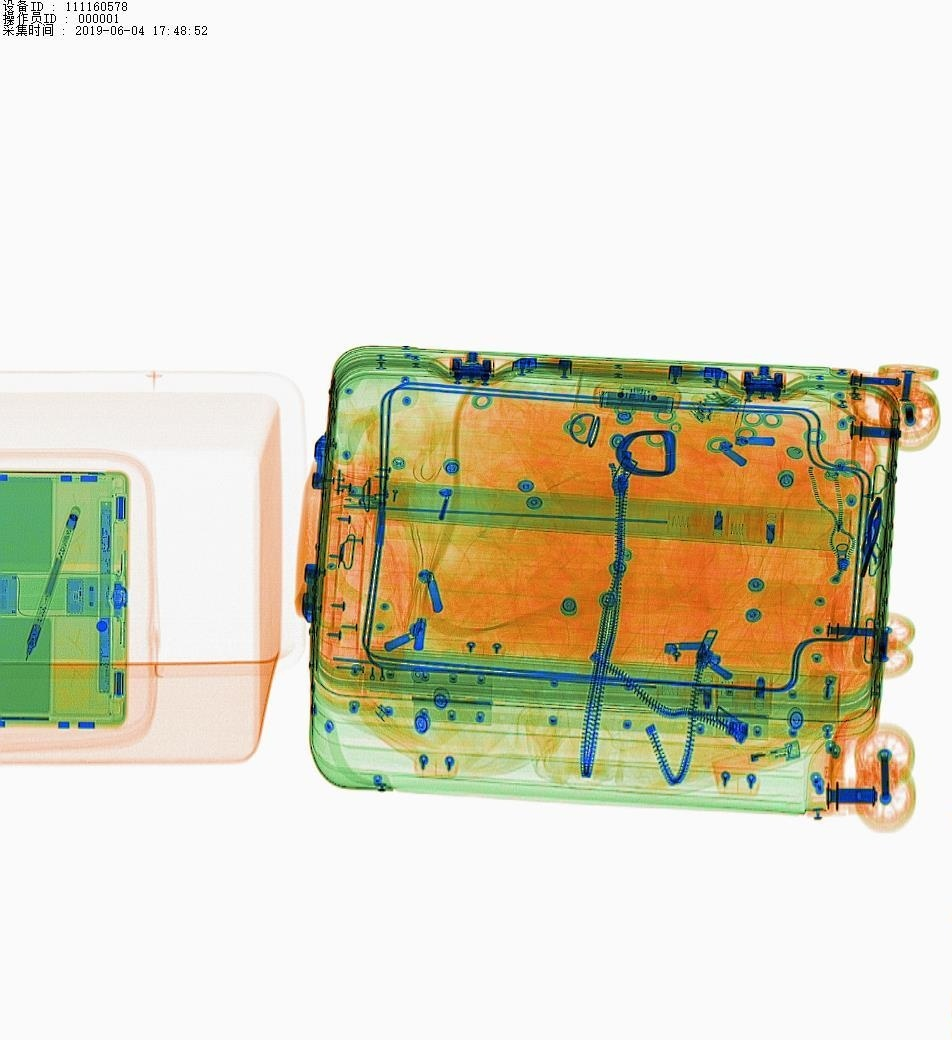NonmetallicFire: (701, 725, 820, 788)
